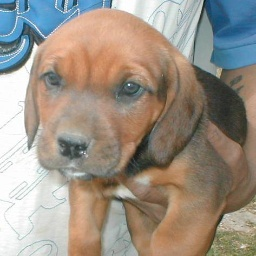dog: (19, 6, 245, 256)
